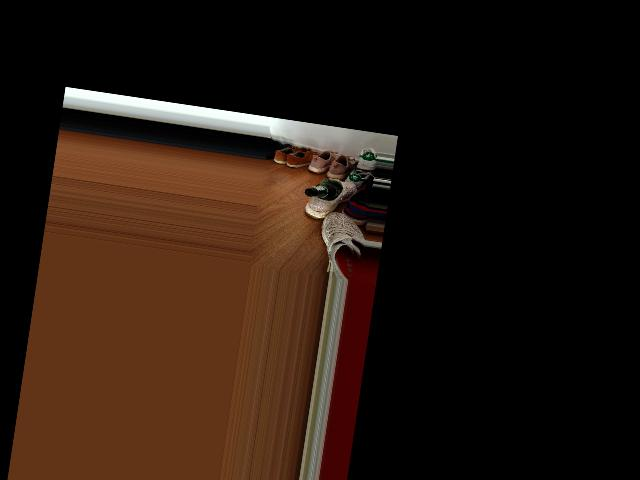beer: (303, 179, 342, 201)
